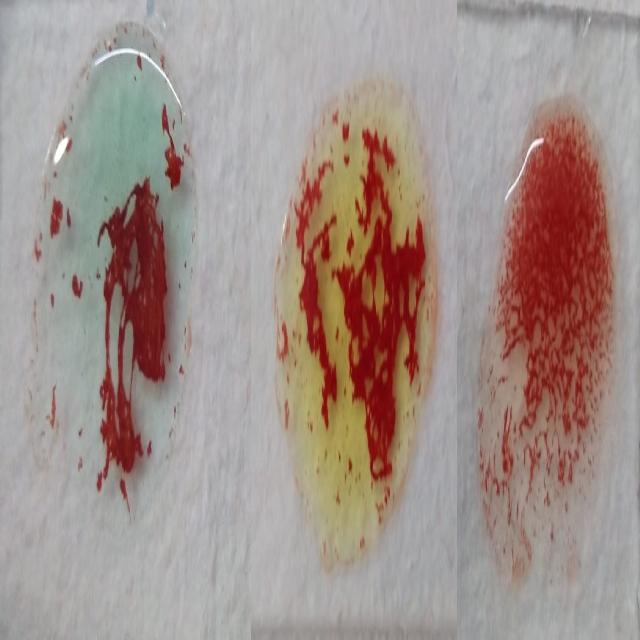A: (42, 18, 199, 511)
B: (274, 94, 430, 536)
D: (481, 111, 614, 560)
